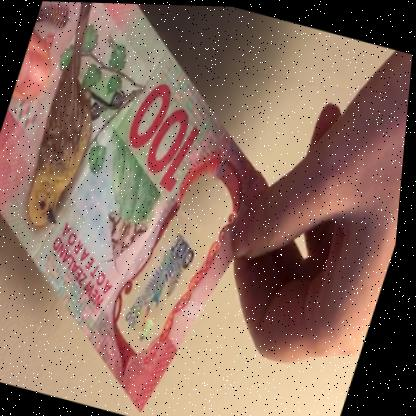100B: (124, 217, 213, 349)
